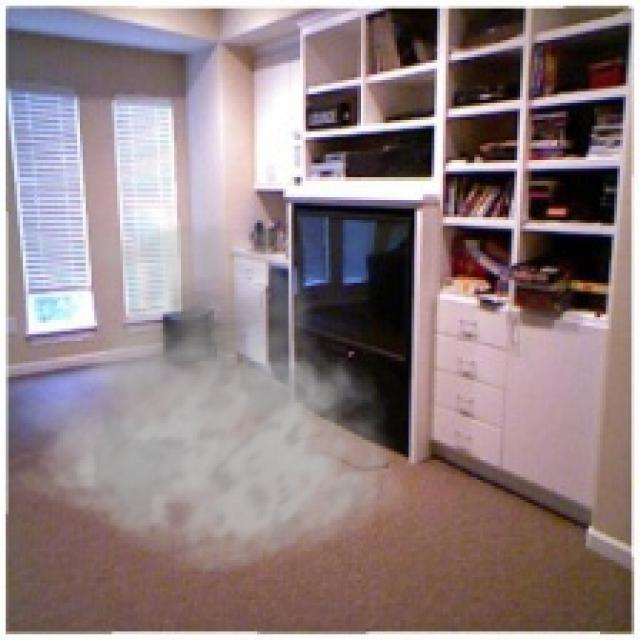Smoke: (9, 188, 408, 574)
